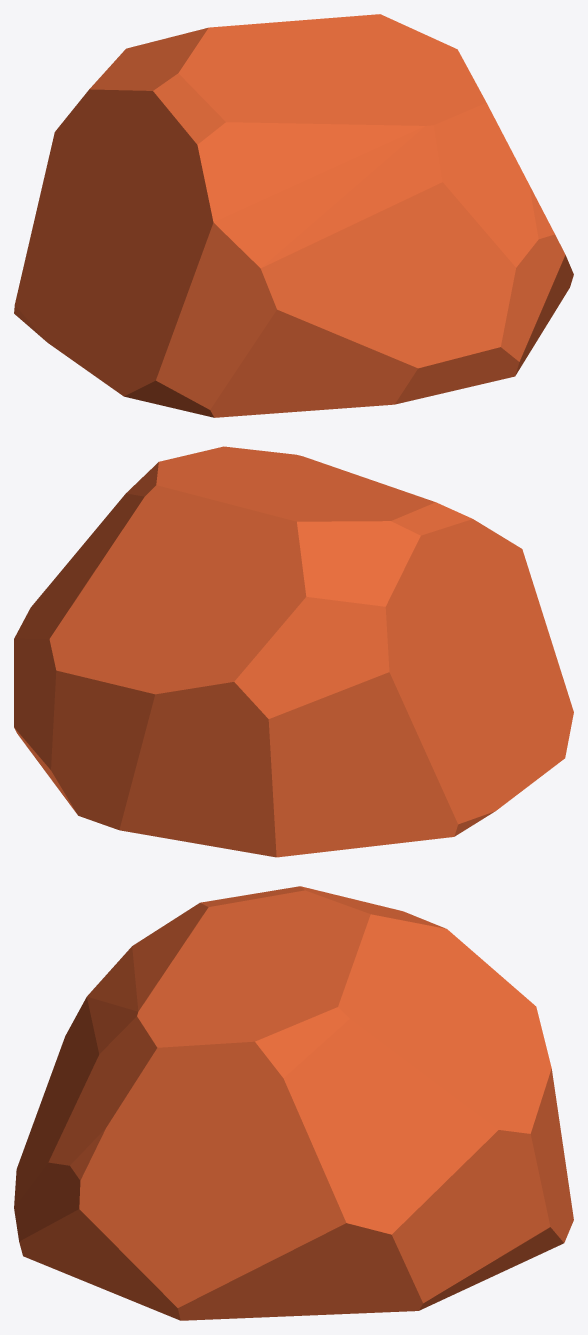
Rendered from rock3.fbx.
3 views of the same model, one above another, from view 1: azimuth 30°, elevation 25°; view 2: azimuth 150°, elevation 25°; view 3: azimuth 270°, elevation 25° (orthographic). The views are drawn at different scales.
Parts seen in each view (by area): view 1: Cube.009; view 2: Cube.009; view 3: Cube.009.
Boxes of the visible parts, x1=… form: Cube.009: x1=14, y1=14, x2=573, y2=417; Cube.009: x1=14, y1=446, x2=573, y2=857; Cube.009: x1=14, y1=886, x2=573, y2=1320.
Size of the model in its own units: 48.2 by 26.3 by 49.2.
